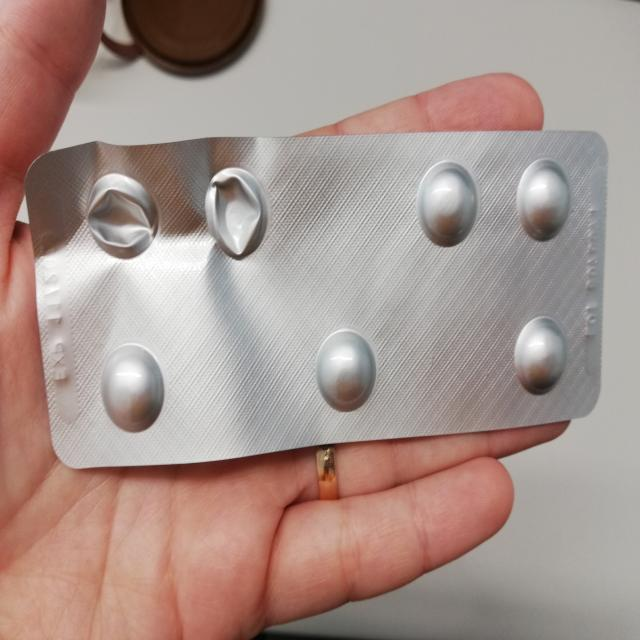Empty: (198, 159, 270, 265), (78, 170, 158, 263)
Pill: (99, 340, 170, 440), (414, 150, 482, 252), (311, 326, 379, 417), (511, 154, 576, 248), (511, 311, 571, 400)
